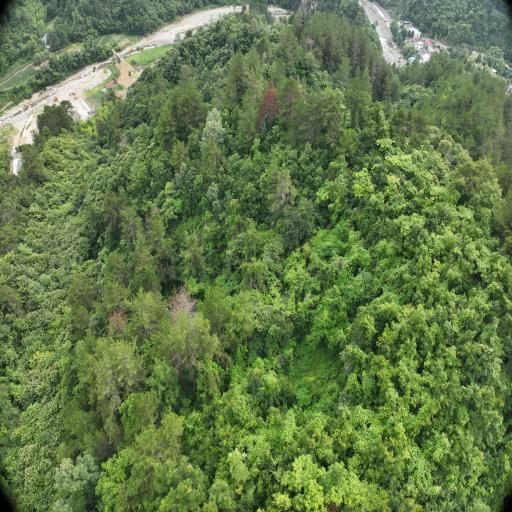sick-tree: (265, 82, 277, 128), (172, 289, 194, 314), (257, 100, 271, 138), (109, 311, 124, 324)
